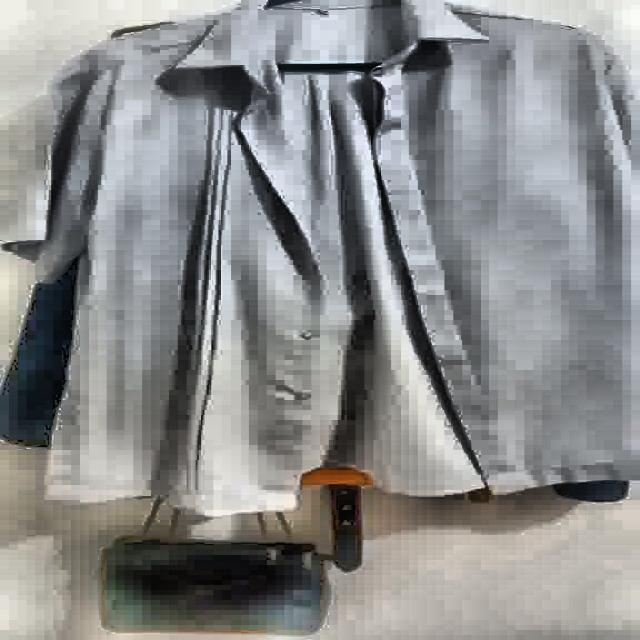clothes: (6, 1, 634, 521)
